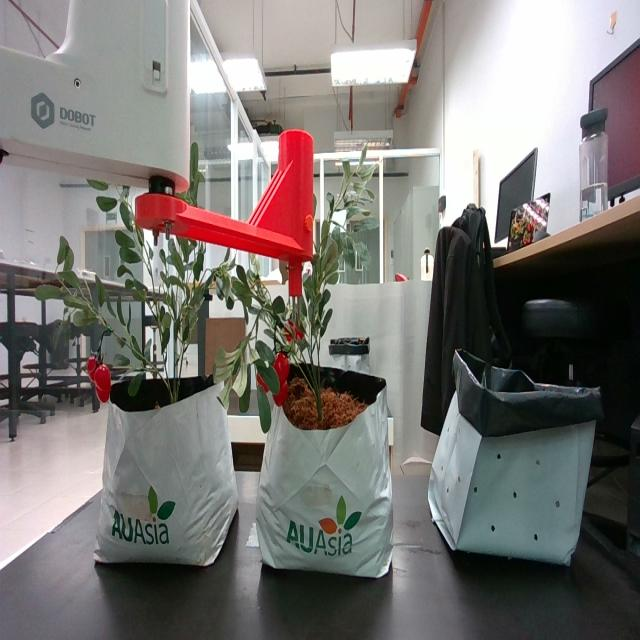EndEffector: (0, 7, 315, 307)
Soilbag: (427, 361, 597, 569), (256, 367, 394, 581), (94, 384, 238, 571)
plant: (212, 145, 378, 435), (56, 202, 240, 404)
